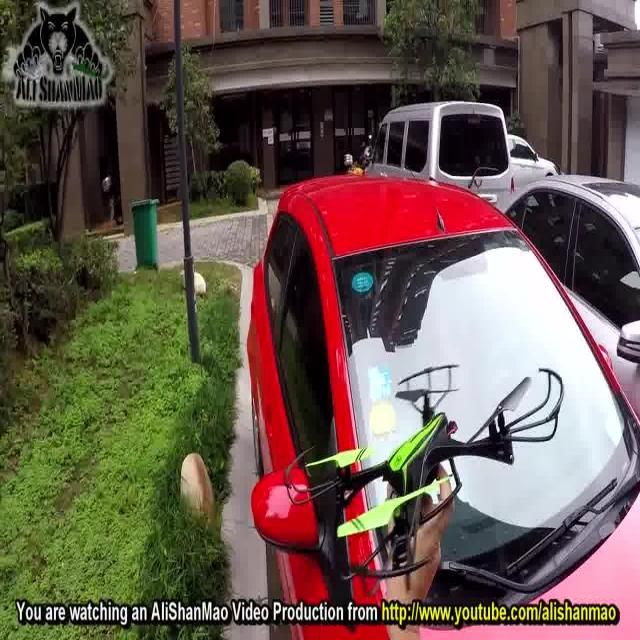drones: (278, 354, 574, 596)
